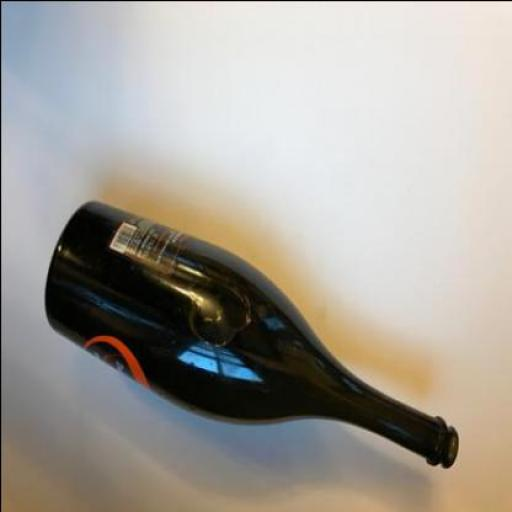glass: (44, 200, 459, 468)
